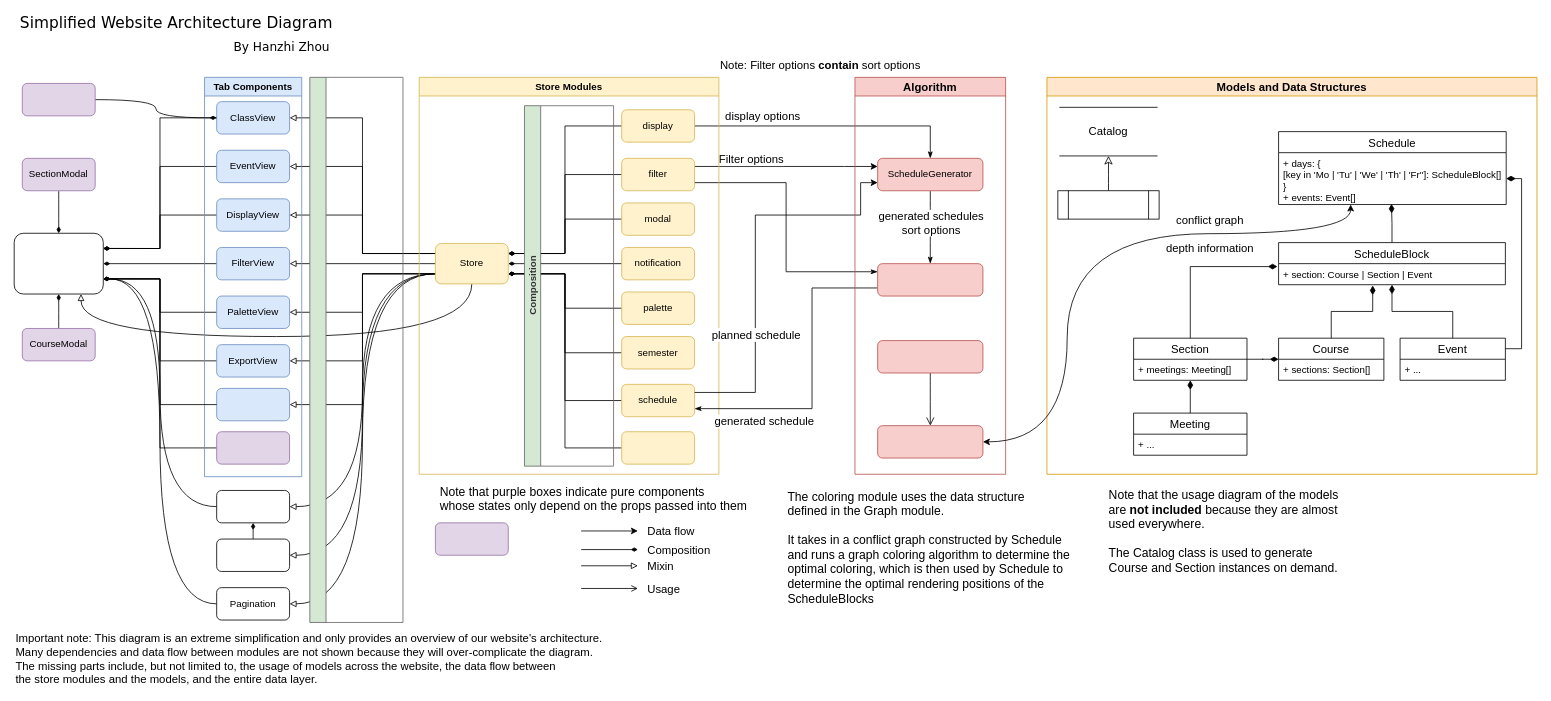
Image size: 1551x701. Some labels were removed from this diagram. The centre of each missing label's shape, as x and y in pixels:
"App" belongs at pixel 58 263.
"ClassList" belongs at pixel 58 99.
"Coloring" belongs at pixel 930 441.
"CourseBlock" belongs at pixel 253 554.
"FuzzyView" belongs at pixel 253 404.
"Graph" belongs at pixel 930 356.
"GridSchedule" belongs at pixel 253 506.
"Information" belongs at pixel 253 447.
"Mixins" belongs at pixel 356 349.
"Purple" belongs at pixel 471 538.
"ScheduleEvaluator" belongs at pixel 930 279.
"Search Worker" belongs at pixel 1108 204.
"status" belongs at pixel 658 447.
